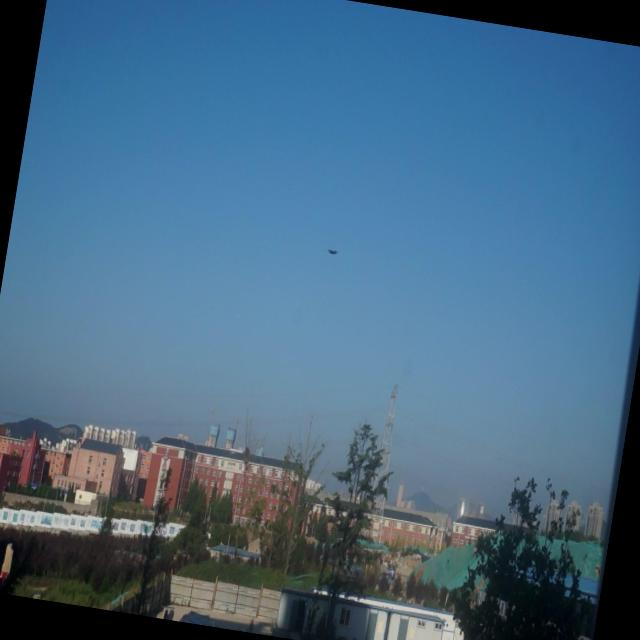drone: (326, 244, 340, 262)
